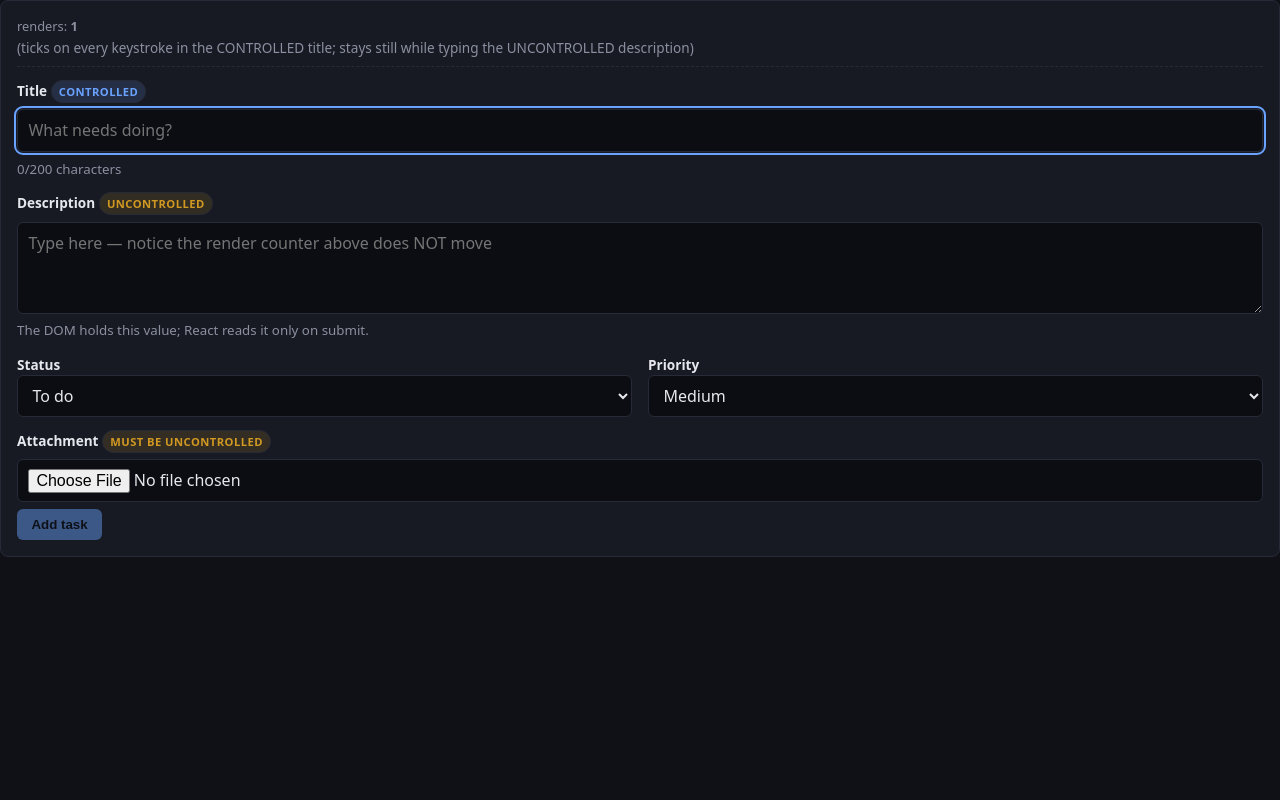
Test: TaskForm › shows the server error and does NOT clear the form on failure
This screenshot has width=1280, height=800.
Type "Duplicate" into the field labelled "Title controlled".
click(640, 131); type("Duplicate")  # box [17,109,1263,152]
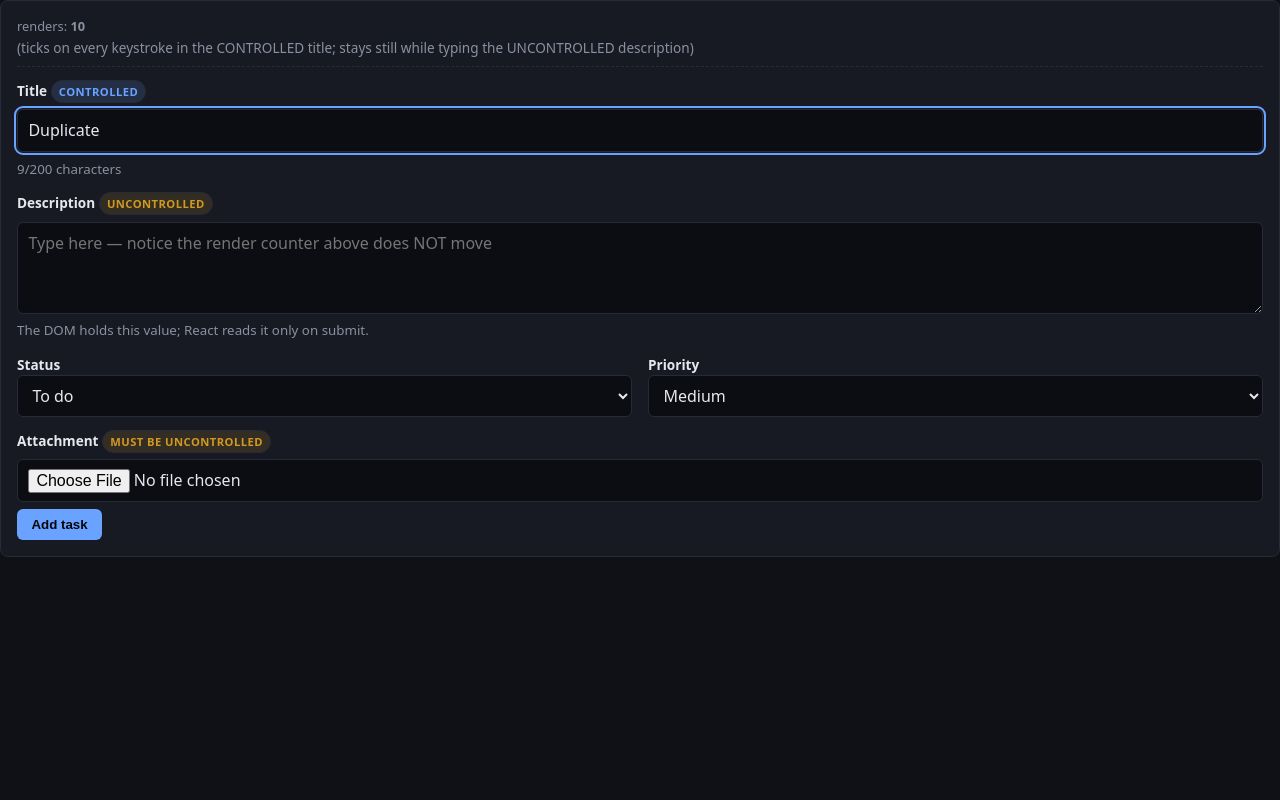
Click the button "Add task".
click(60, 524)  # box [17,509,102,540]
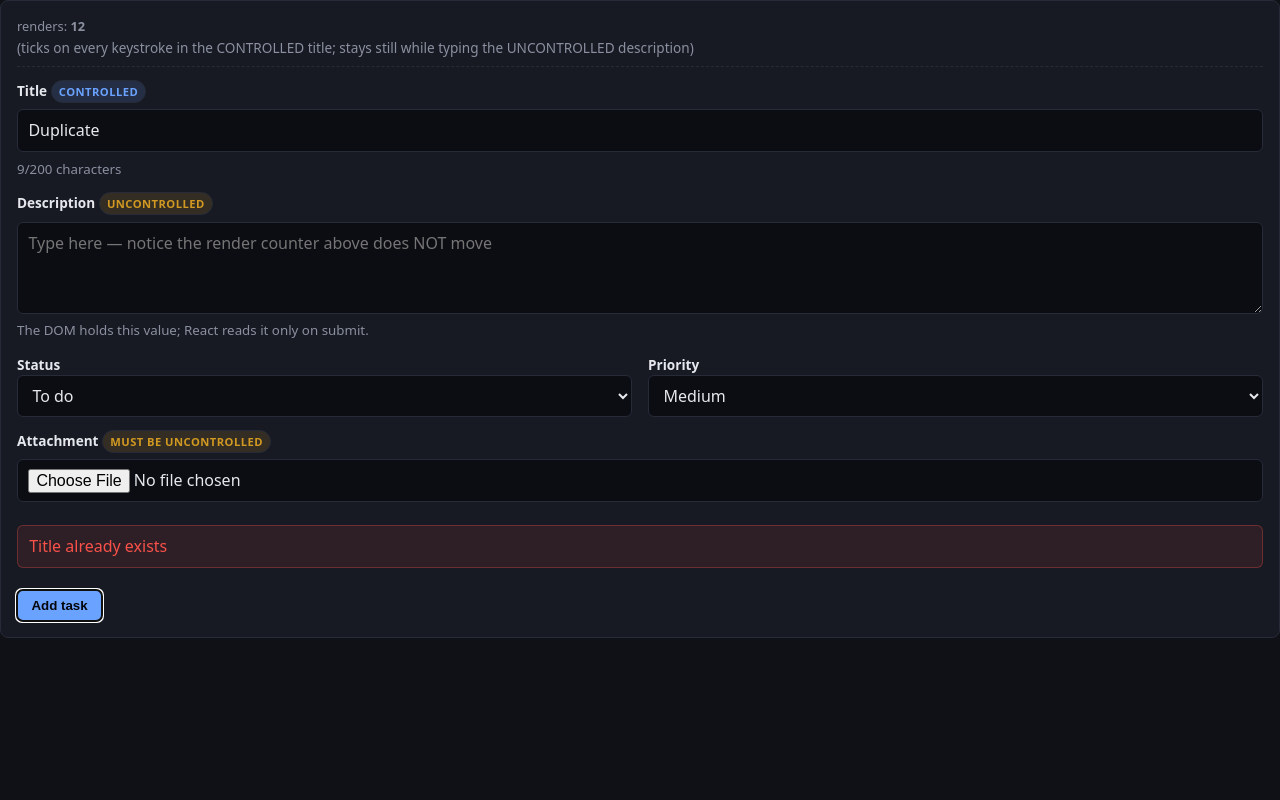
Expected: the text "Title already exists" is shown, [17,525,1263,568]
